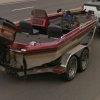Boat: (3, 5, 98, 83)
